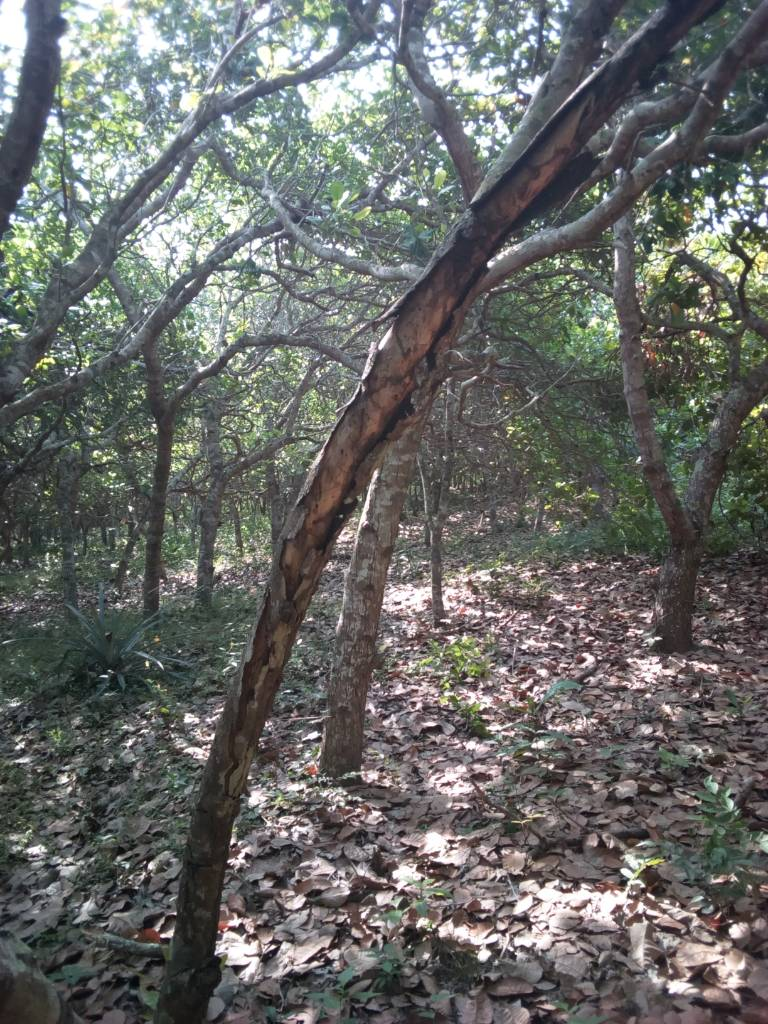Termites: (449, 77, 608, 291), (229, 507, 333, 725), (327, 319, 429, 478)
